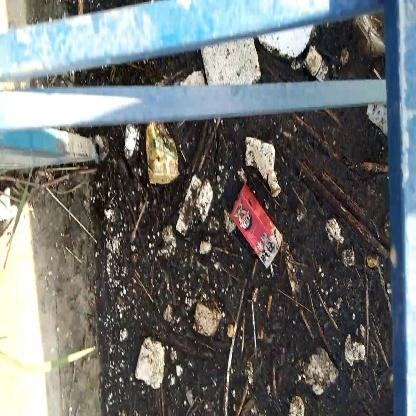milk-box: (221, 183, 285, 275)
